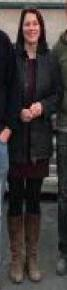no hat: (12, 2, 62, 60)
no vest: (3, 27, 67, 173)
